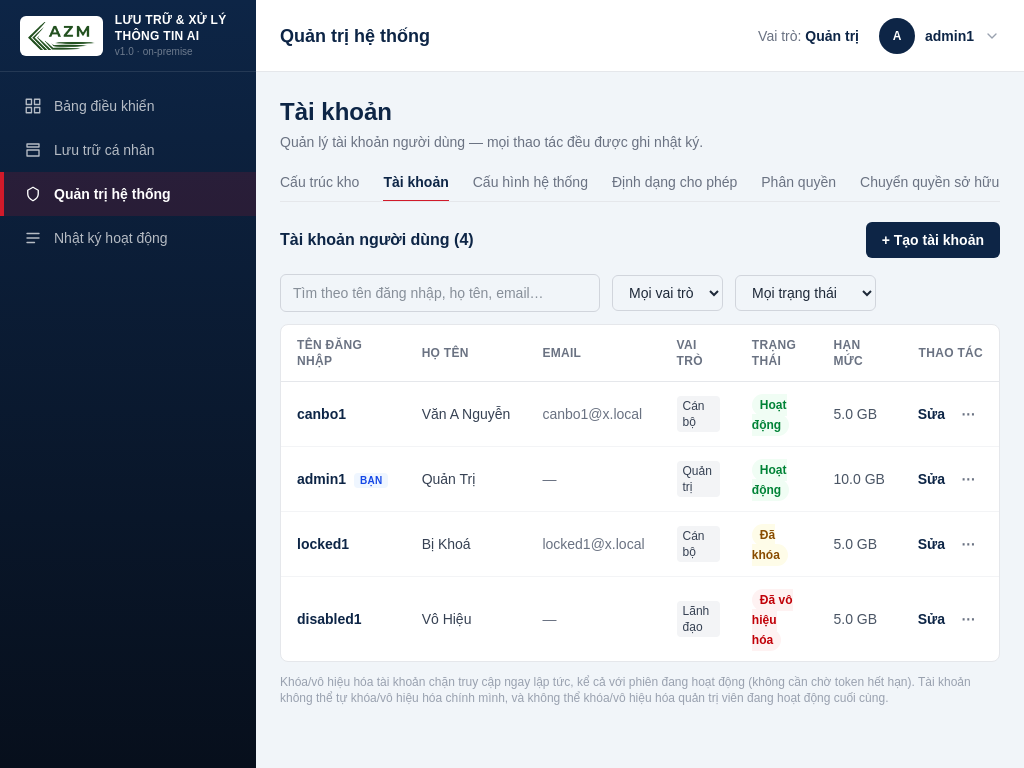
AccountsAdminPage › marks the signed-in user's own row as "Bạn" and hides its lock/disable actions
Expected: the text "canbo1" is shown, [281,382,406,446]
Expected: the text "Bạn" is shown, [354,473,388,488]
Click the button named "Thao tác khác: admin1": (968, 479) [953,467,983,491]
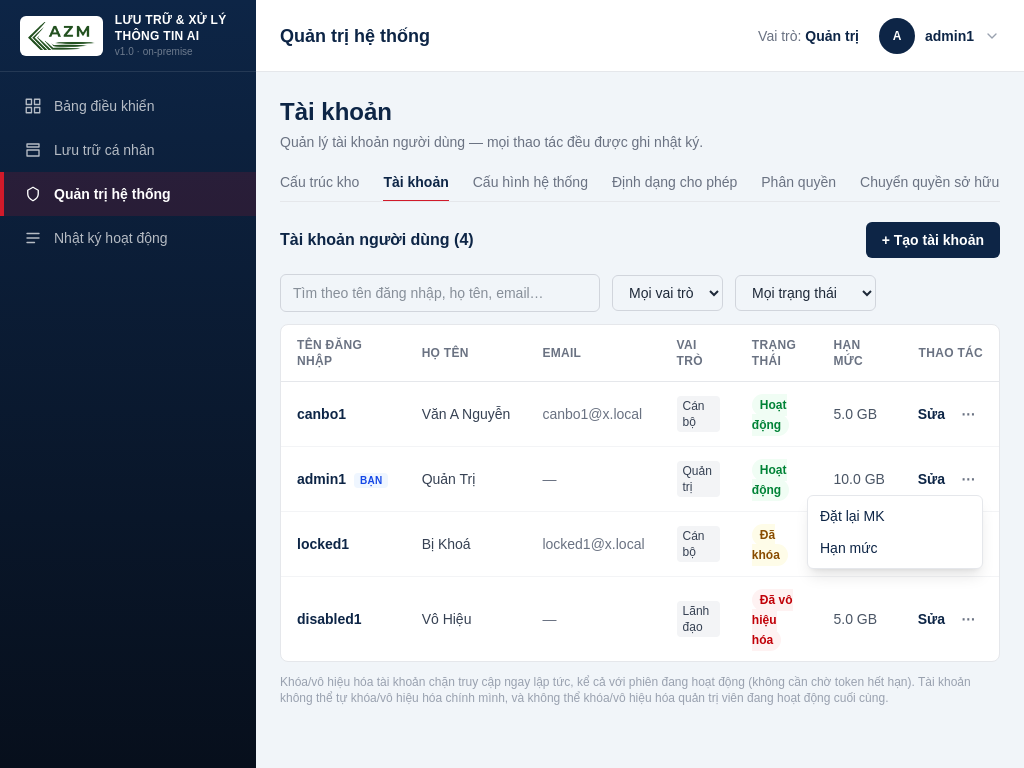
Expected: the button "Sửa" in the row of "Bạn" is shown, [918,469,945,489]
Result: the menu item "Đặt lại MK" is shown at [808,500,982,532]
